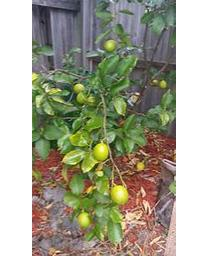lemon: (111, 184, 130, 204), (93, 141, 109, 161), (79, 212, 91, 227), (103, 39, 117, 50)
